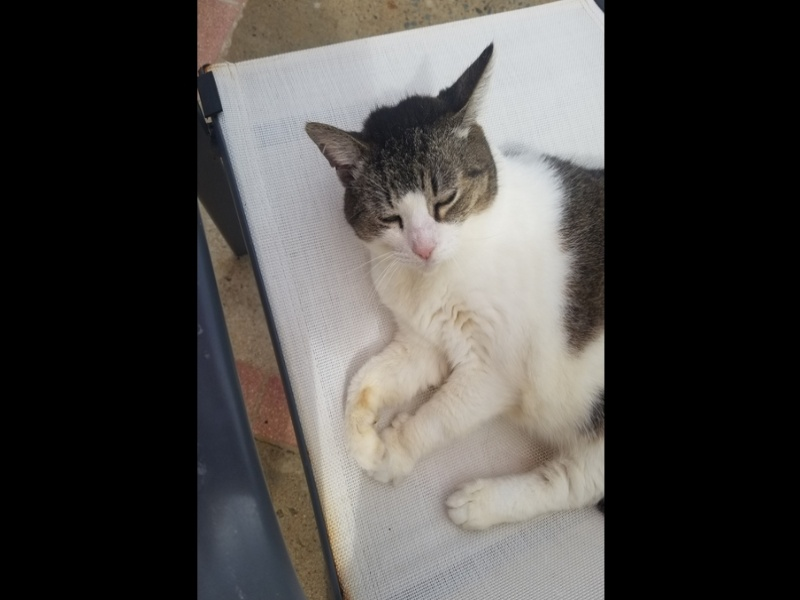cat: (303, 44, 604, 529)
